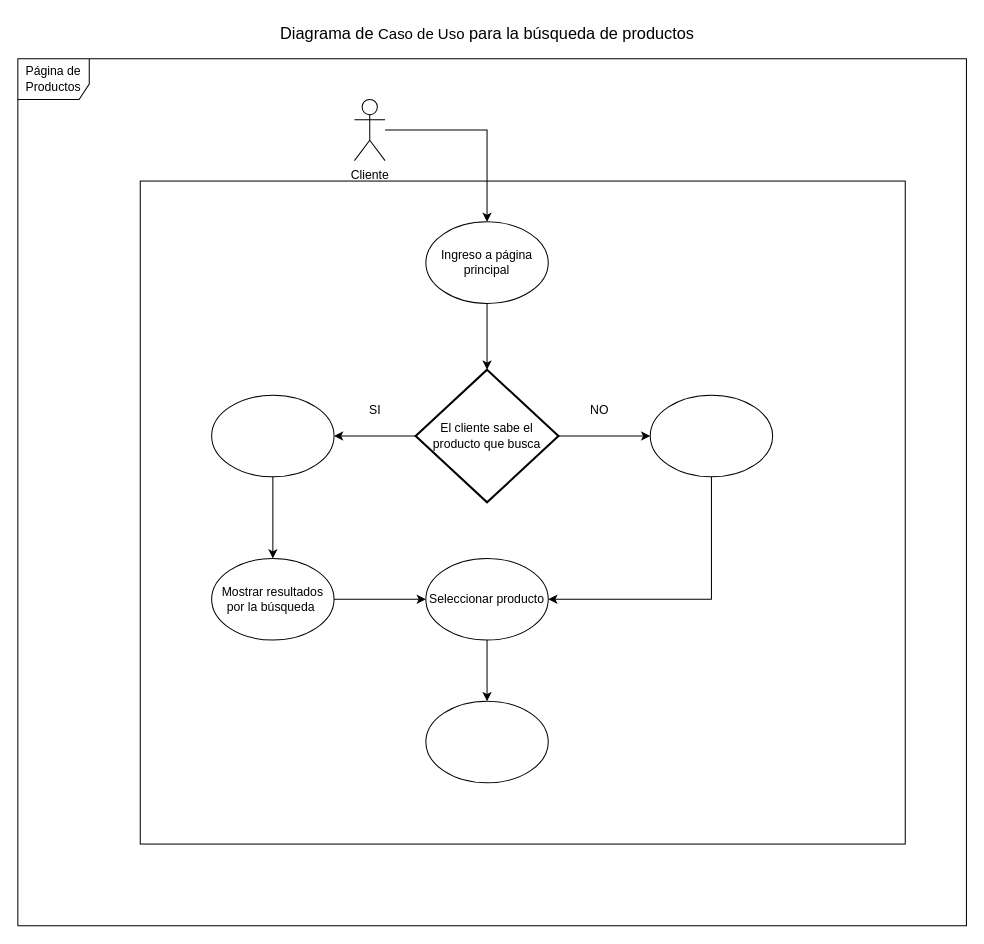
The diagram is 984 pixels wide and 944 high, and some of its shapes have lost their labels. The centre of each missing label's shape, as x and y in pixels:
Agregar a Carrito de compras: the point at 486,741
Buscar producto en la página principal: the point at 711,435
Ingresa nombre del producto: the point at 272,435
